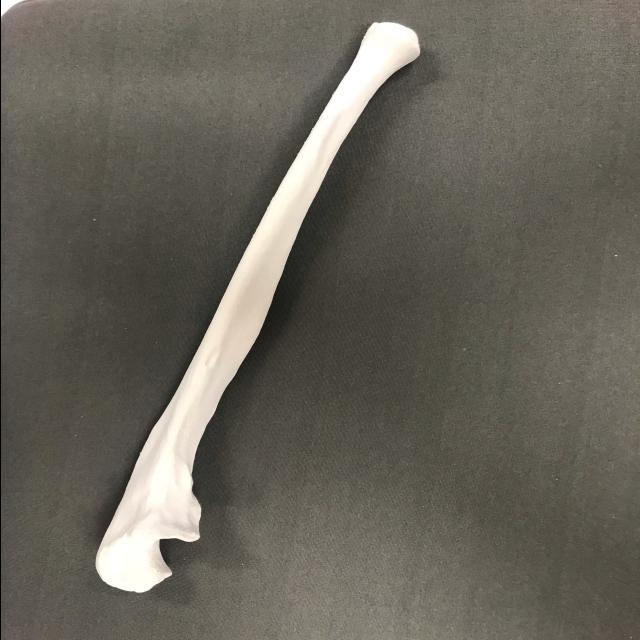bone: (80, 18, 438, 594)
